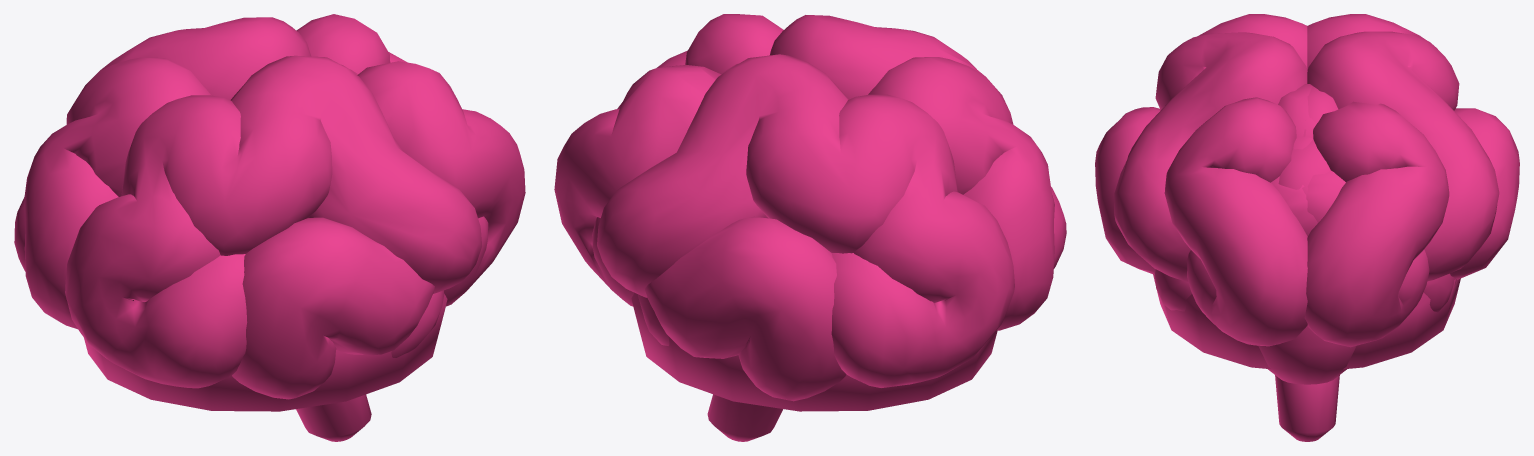
The model's file is braincenteredscaledpink.glb.
3 views of the same model, side by side, from view 1: azimuth 30°, elevation 25°; view 2: azimuth 150°, elevation 25°; view 3: azimuth 270°, elevation 25° (orthographic). The views are drawn at different scales.
Visible parts, largest first — view 1: Sphere; view 2: Sphere; view 3: Sphere.
Part boxes in pixels (x1,y1,x2,y2): Sphere: [14, 14, 525, 441]; Sphere: [554, 14, 1066, 441]; Sphere: [1095, 14, 1519, 441].
Bounding box in the file's own units: 6.08 × 5.38 × 5.6.
